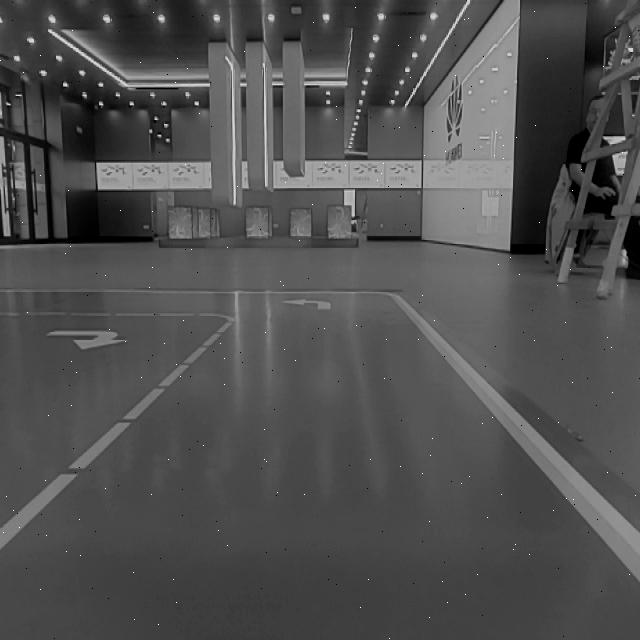left_lane: (1, 322, 225, 547)
right_lane: (398, 298, 640, 578)
